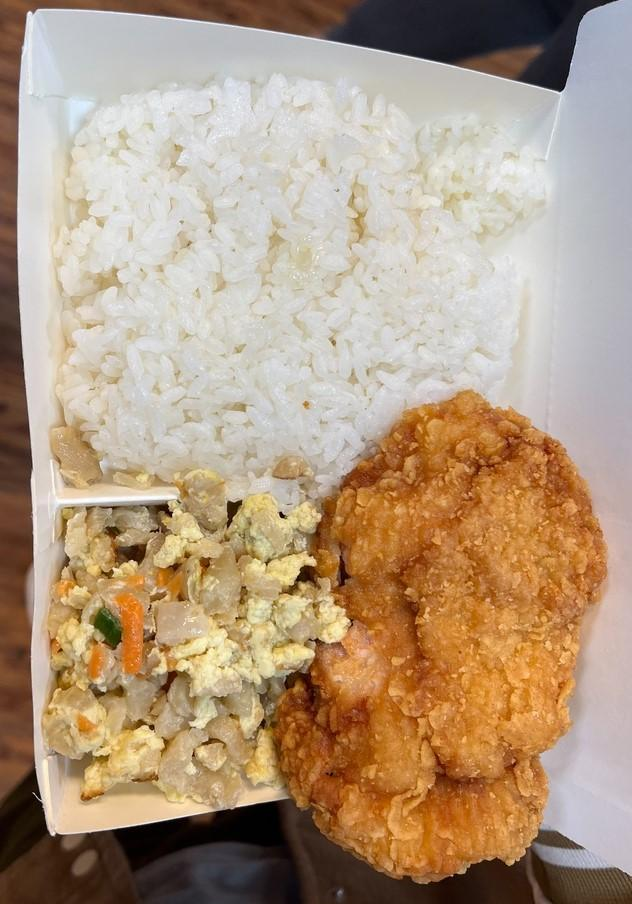big grilled chicken leg: (0, 0, 592, 846)
big herbal chicken leg: (52, 70, 549, 489)
braised fish fillet: (48, 478, 322, 815)
braised pork: (290, 398, 612, 886)
